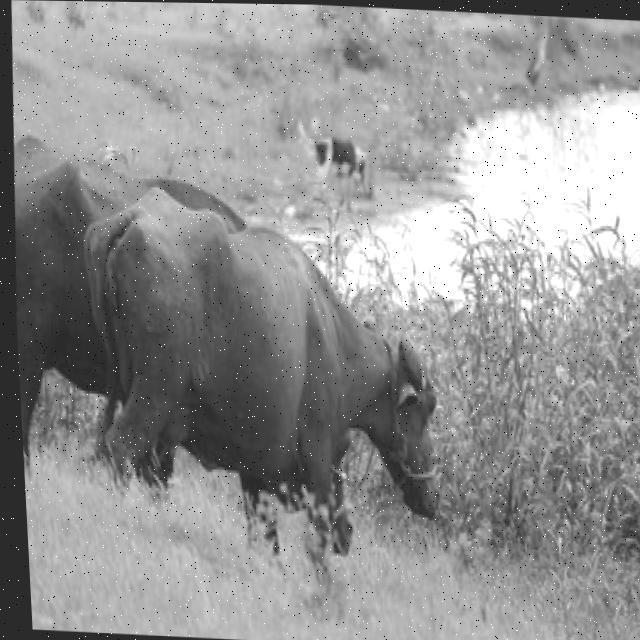Buffalo: (65, 180, 473, 561)
